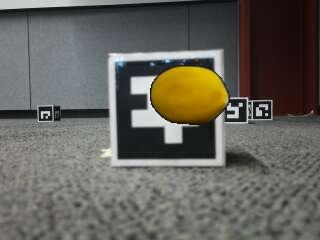lemon: (150, 66, 228, 125)
